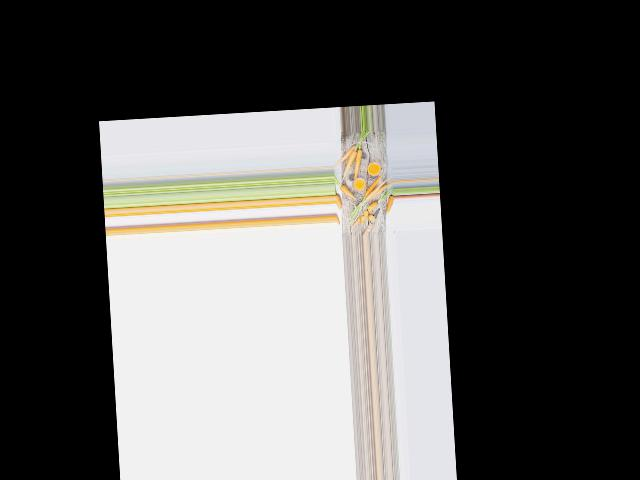carrot: (333, 140, 358, 170)
